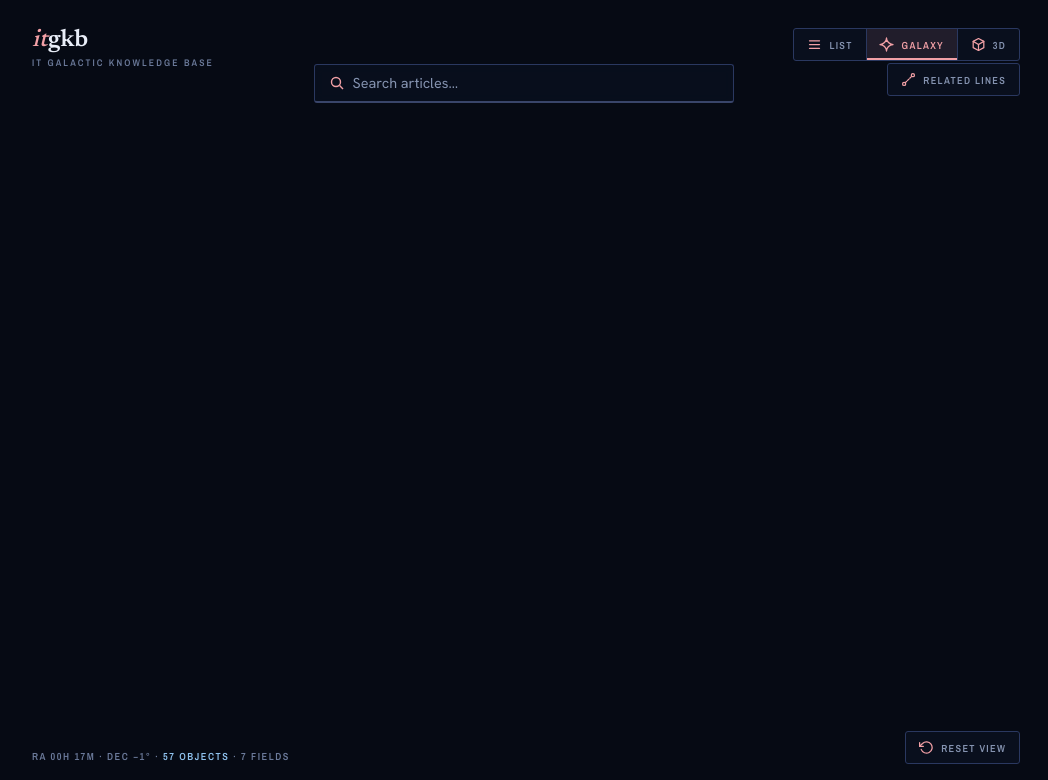
3D lazy-load fallback (a11y) › announces the chunk load as a polite status region
Click the button "3D" at (988, 44), box x1=958 y1=29 x2=1019 y2=60
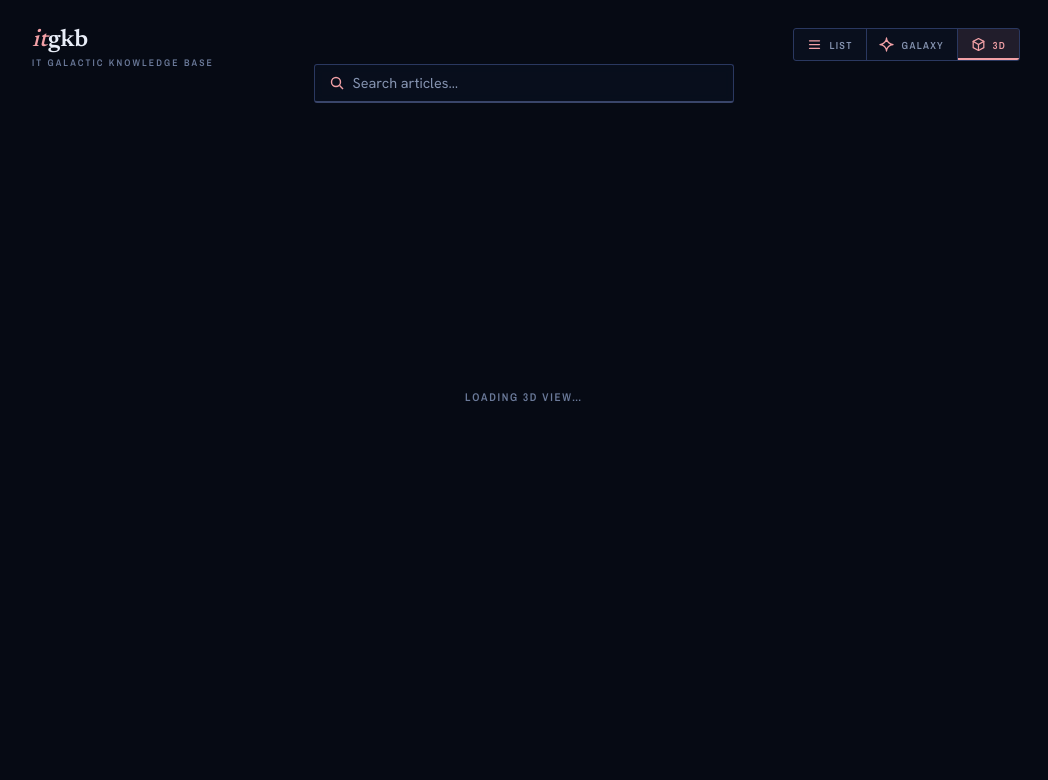
Check: the message shows "Loading 3D view", box x1=465 y1=388 x2=583 y2=404
